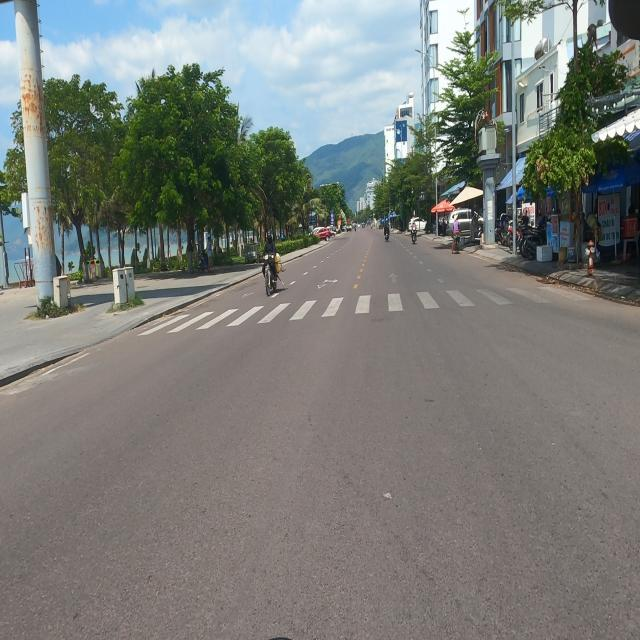walk-crossing: (146, 284, 524, 330), (498, 415, 500, 416)
